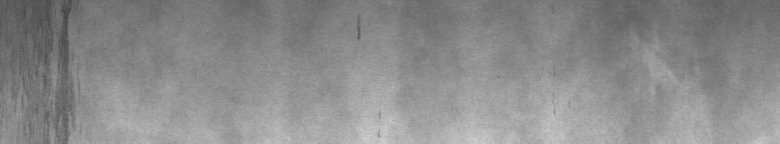ka: (12, 4, 82, 136)
